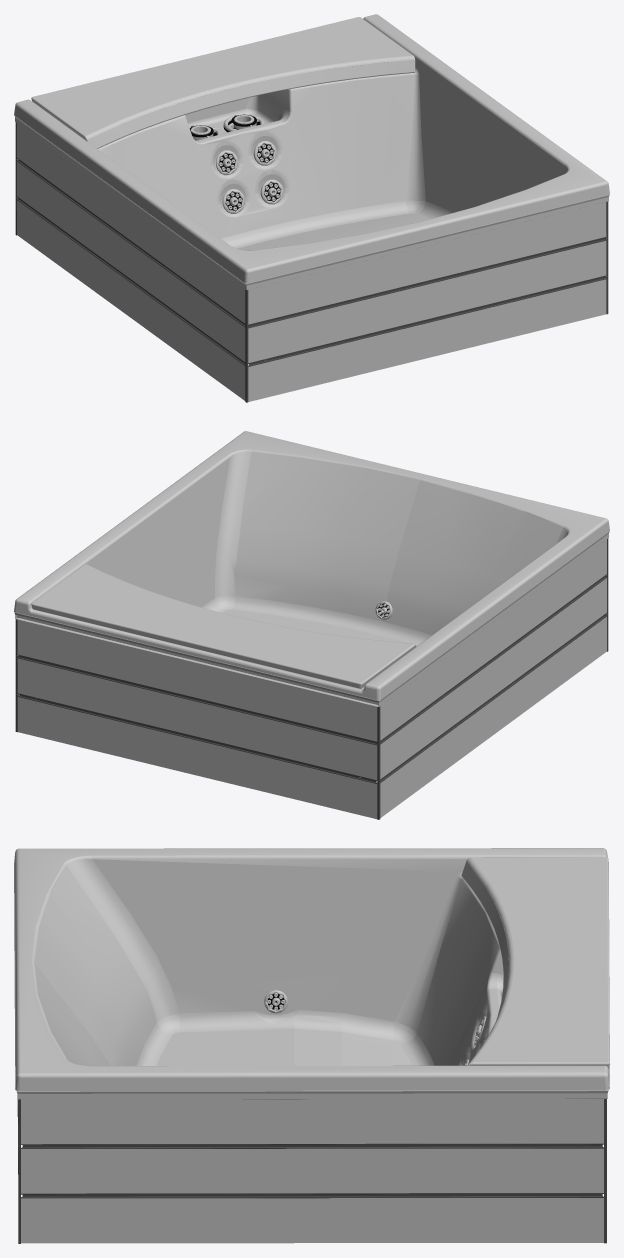
The model's file is SPA_WEBDEMO 1.FBX.
The picture shows the model from 3 angles, top to bottom: view 1: azimuth 30°, elevation 25°; view 2: azimuth 150°, elevation 25°; view 3: azimuth 270°, elevation 25°; orthographic projection. The views are drawn at different scales.
Parts seen in each view (by area): view 1: SPA01, TEUCO_Coque; view 2: SPA01, TEUCO_Coque; view 3: SPA01, TEUCO_Coque.
Part boxes in pixels (box(x1,y1,x2,y2)): SPA01: box(14, 14, 609, 402); TEUCO_Coque: box(98, 68, 567, 250); SPA01: box(14, 431, 609, 819); TEUCO_Coque: box(94, 451, 567, 646); SPA01: box(14, 848, 609, 1243); TEUCO_Coque: box(34, 859, 503, 1065).
Size of what is drawn, in the model's own units: 294 by 102 by 324.
